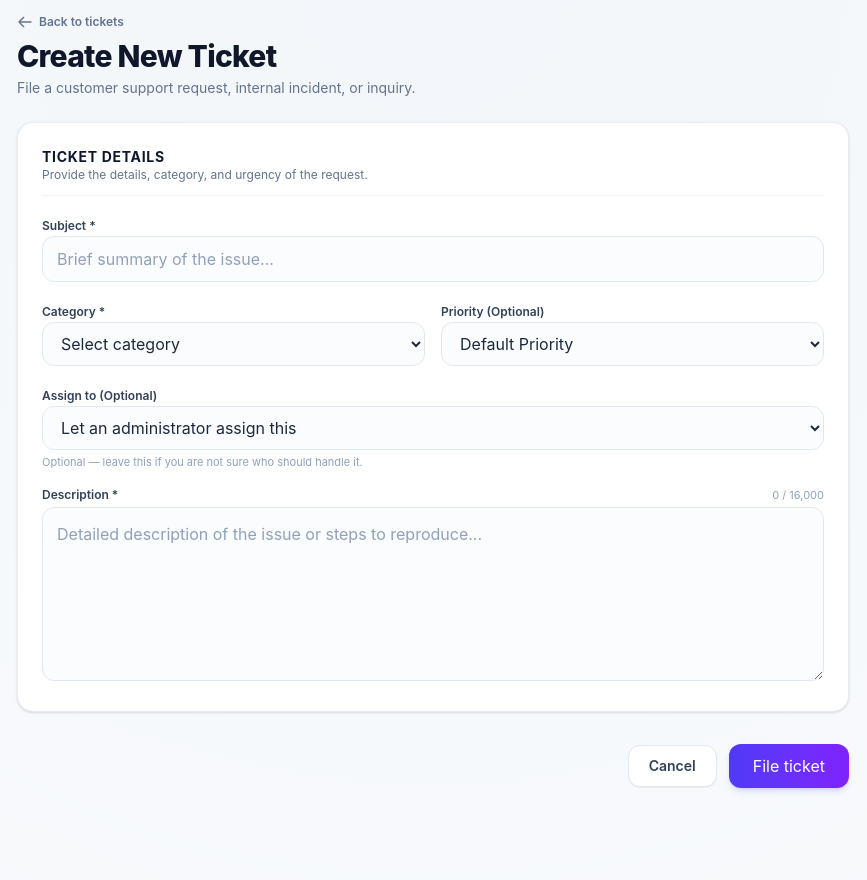
NewTicketView › shows a generic banner for a non-422 failure
The image size is (867, 880).
Type "Printer jam" into the field with test id "new-ticket-subject" at (433, 259), box [42,236,824,282]
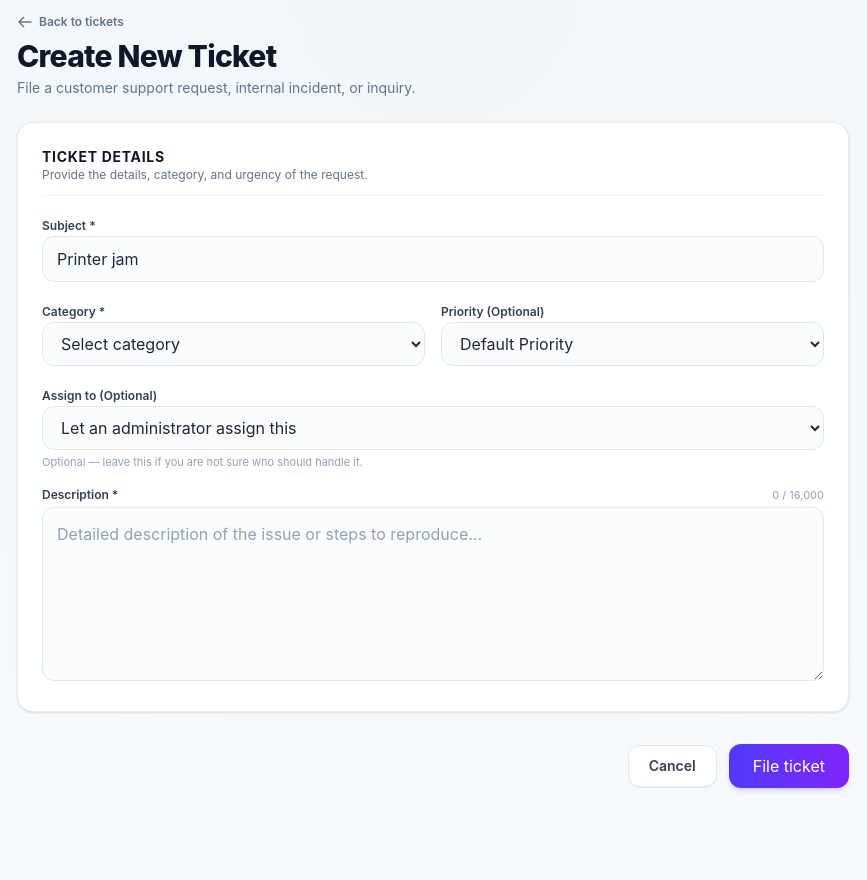
Type "It is stuck badly." into the text box with test id "new-ticket-description" at (433, 594), box [42,507,824,681]
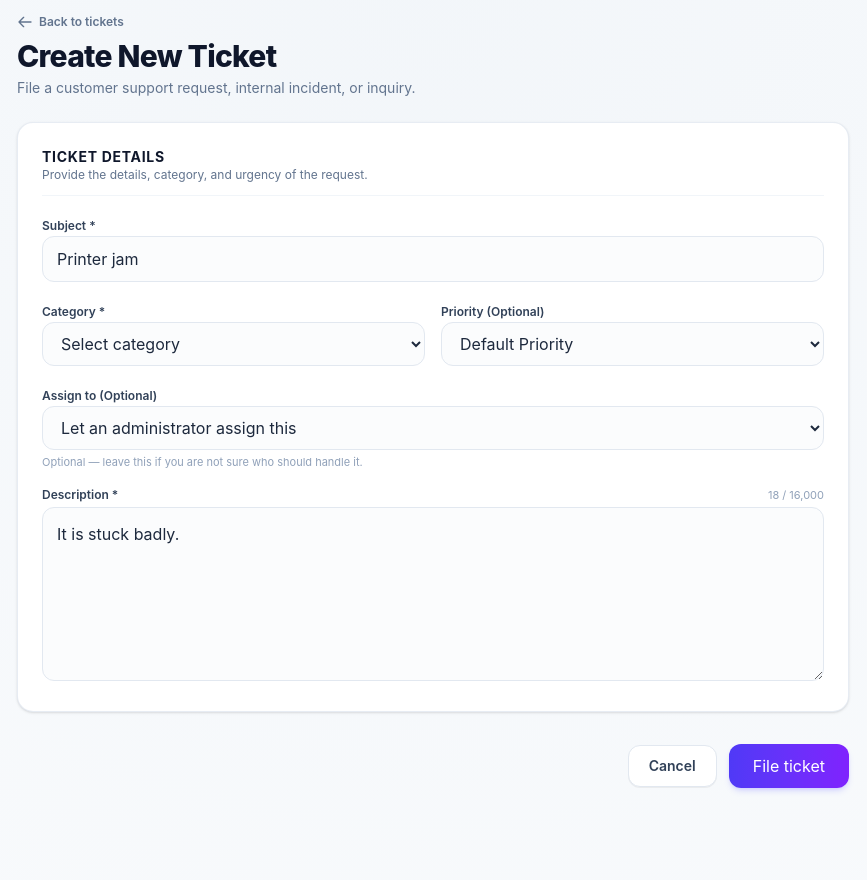
Select "Hardware" in the dropdown with test id "new-ticket-category" at (234, 344), box [42,322,425,366]
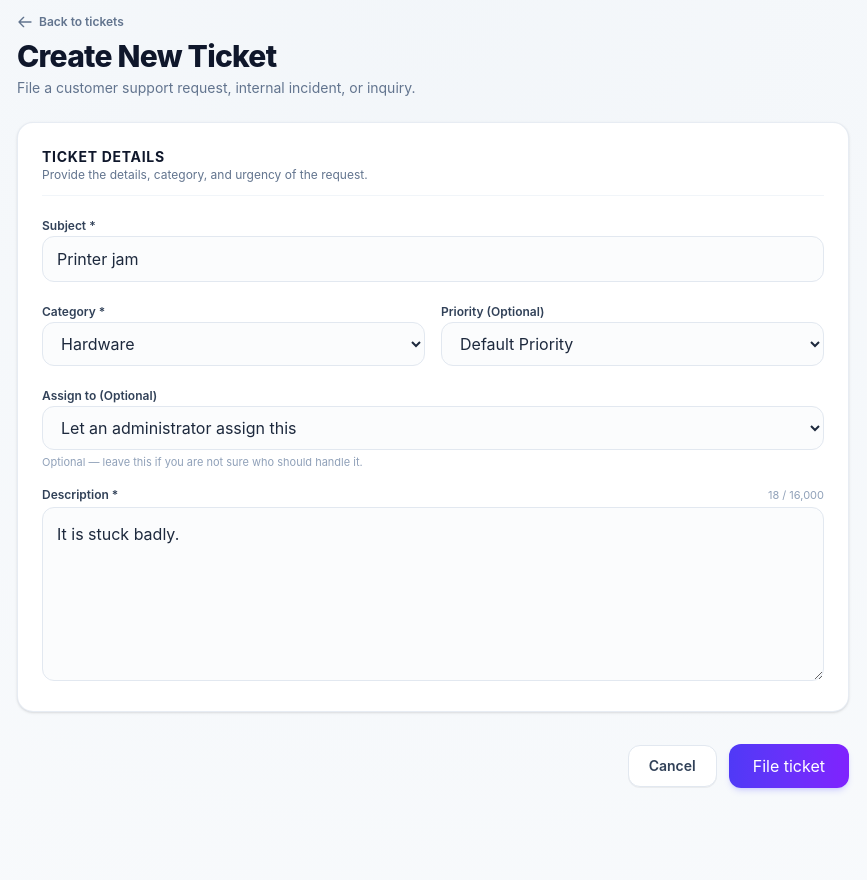
Submit the form with test id "new-ticket-form"
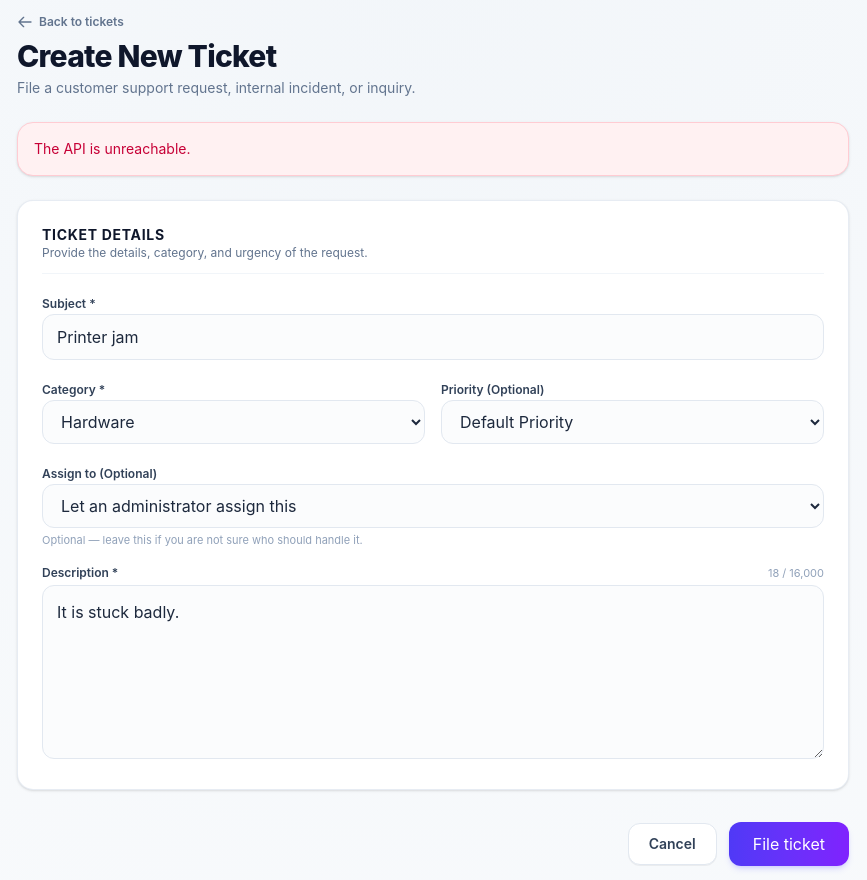
Check: the text with test id "new-ticket-error" reads "The API is unreachable.", box [34,140,190,157]
